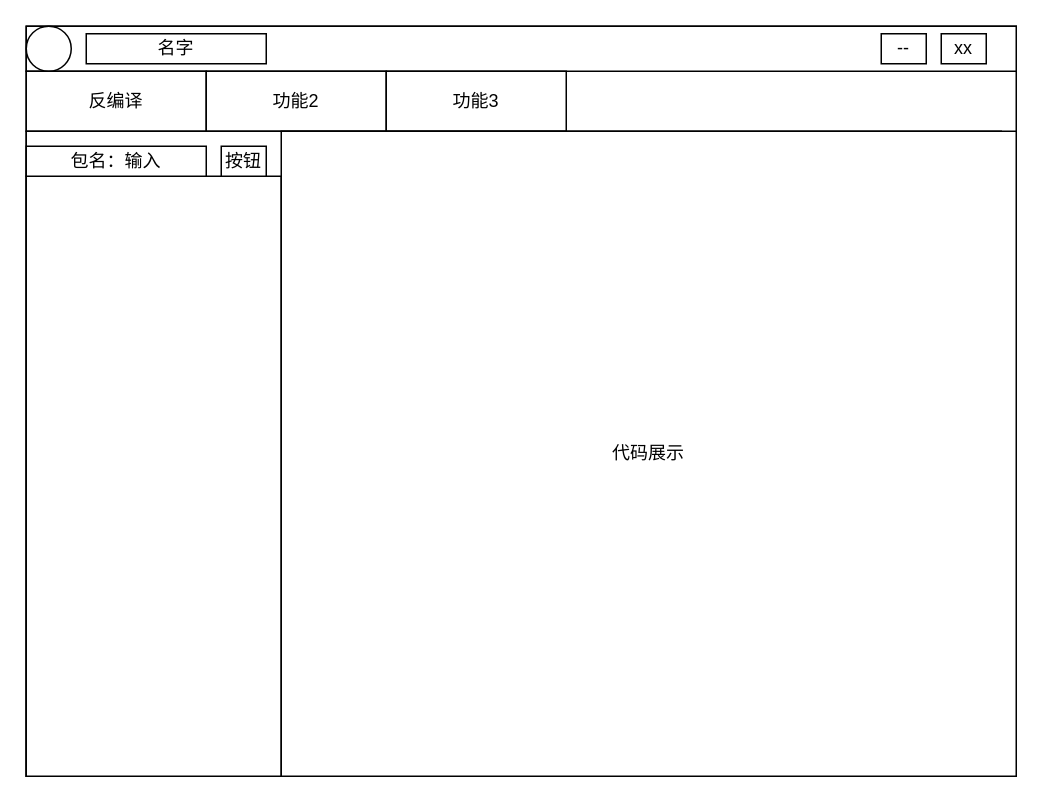
The diagram is 1043 pixels wide and 803 high, and some of its shapes have lost their labels. Each missing label, with the centre of its shape:
logo: the point at 48,48
代码结构树: the point at 153,475
